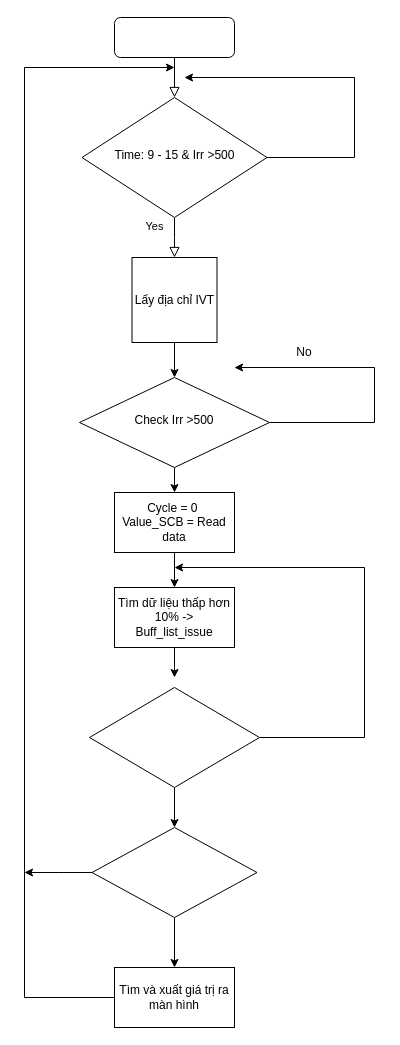
This 400x1045 diagram has some shape labels left out. The shapes that lost their labels are listed below. From the top down, each one's centre as x and y in pixels, then its label:
the point at 174,37: Start
the point at 174,737: Cycle <10
the point at 174,872: nếu giá trị trong Buff_list_issue xuất hiện >80%
